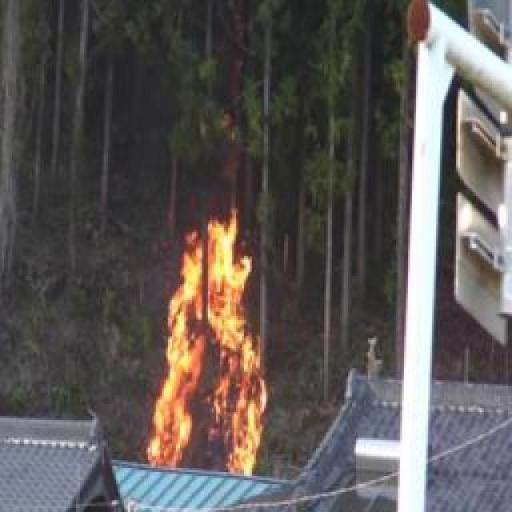smoke: (146, 224, 268, 480)
